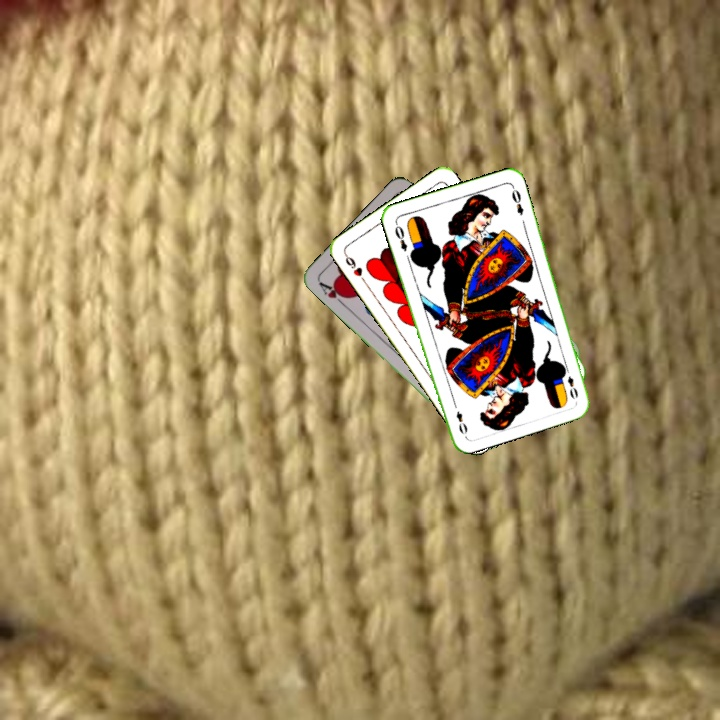EO: (560, 363, 581, 402), (391, 219, 410, 254)
H9: (340, 250, 368, 285)
HA: (315, 277, 351, 309)
